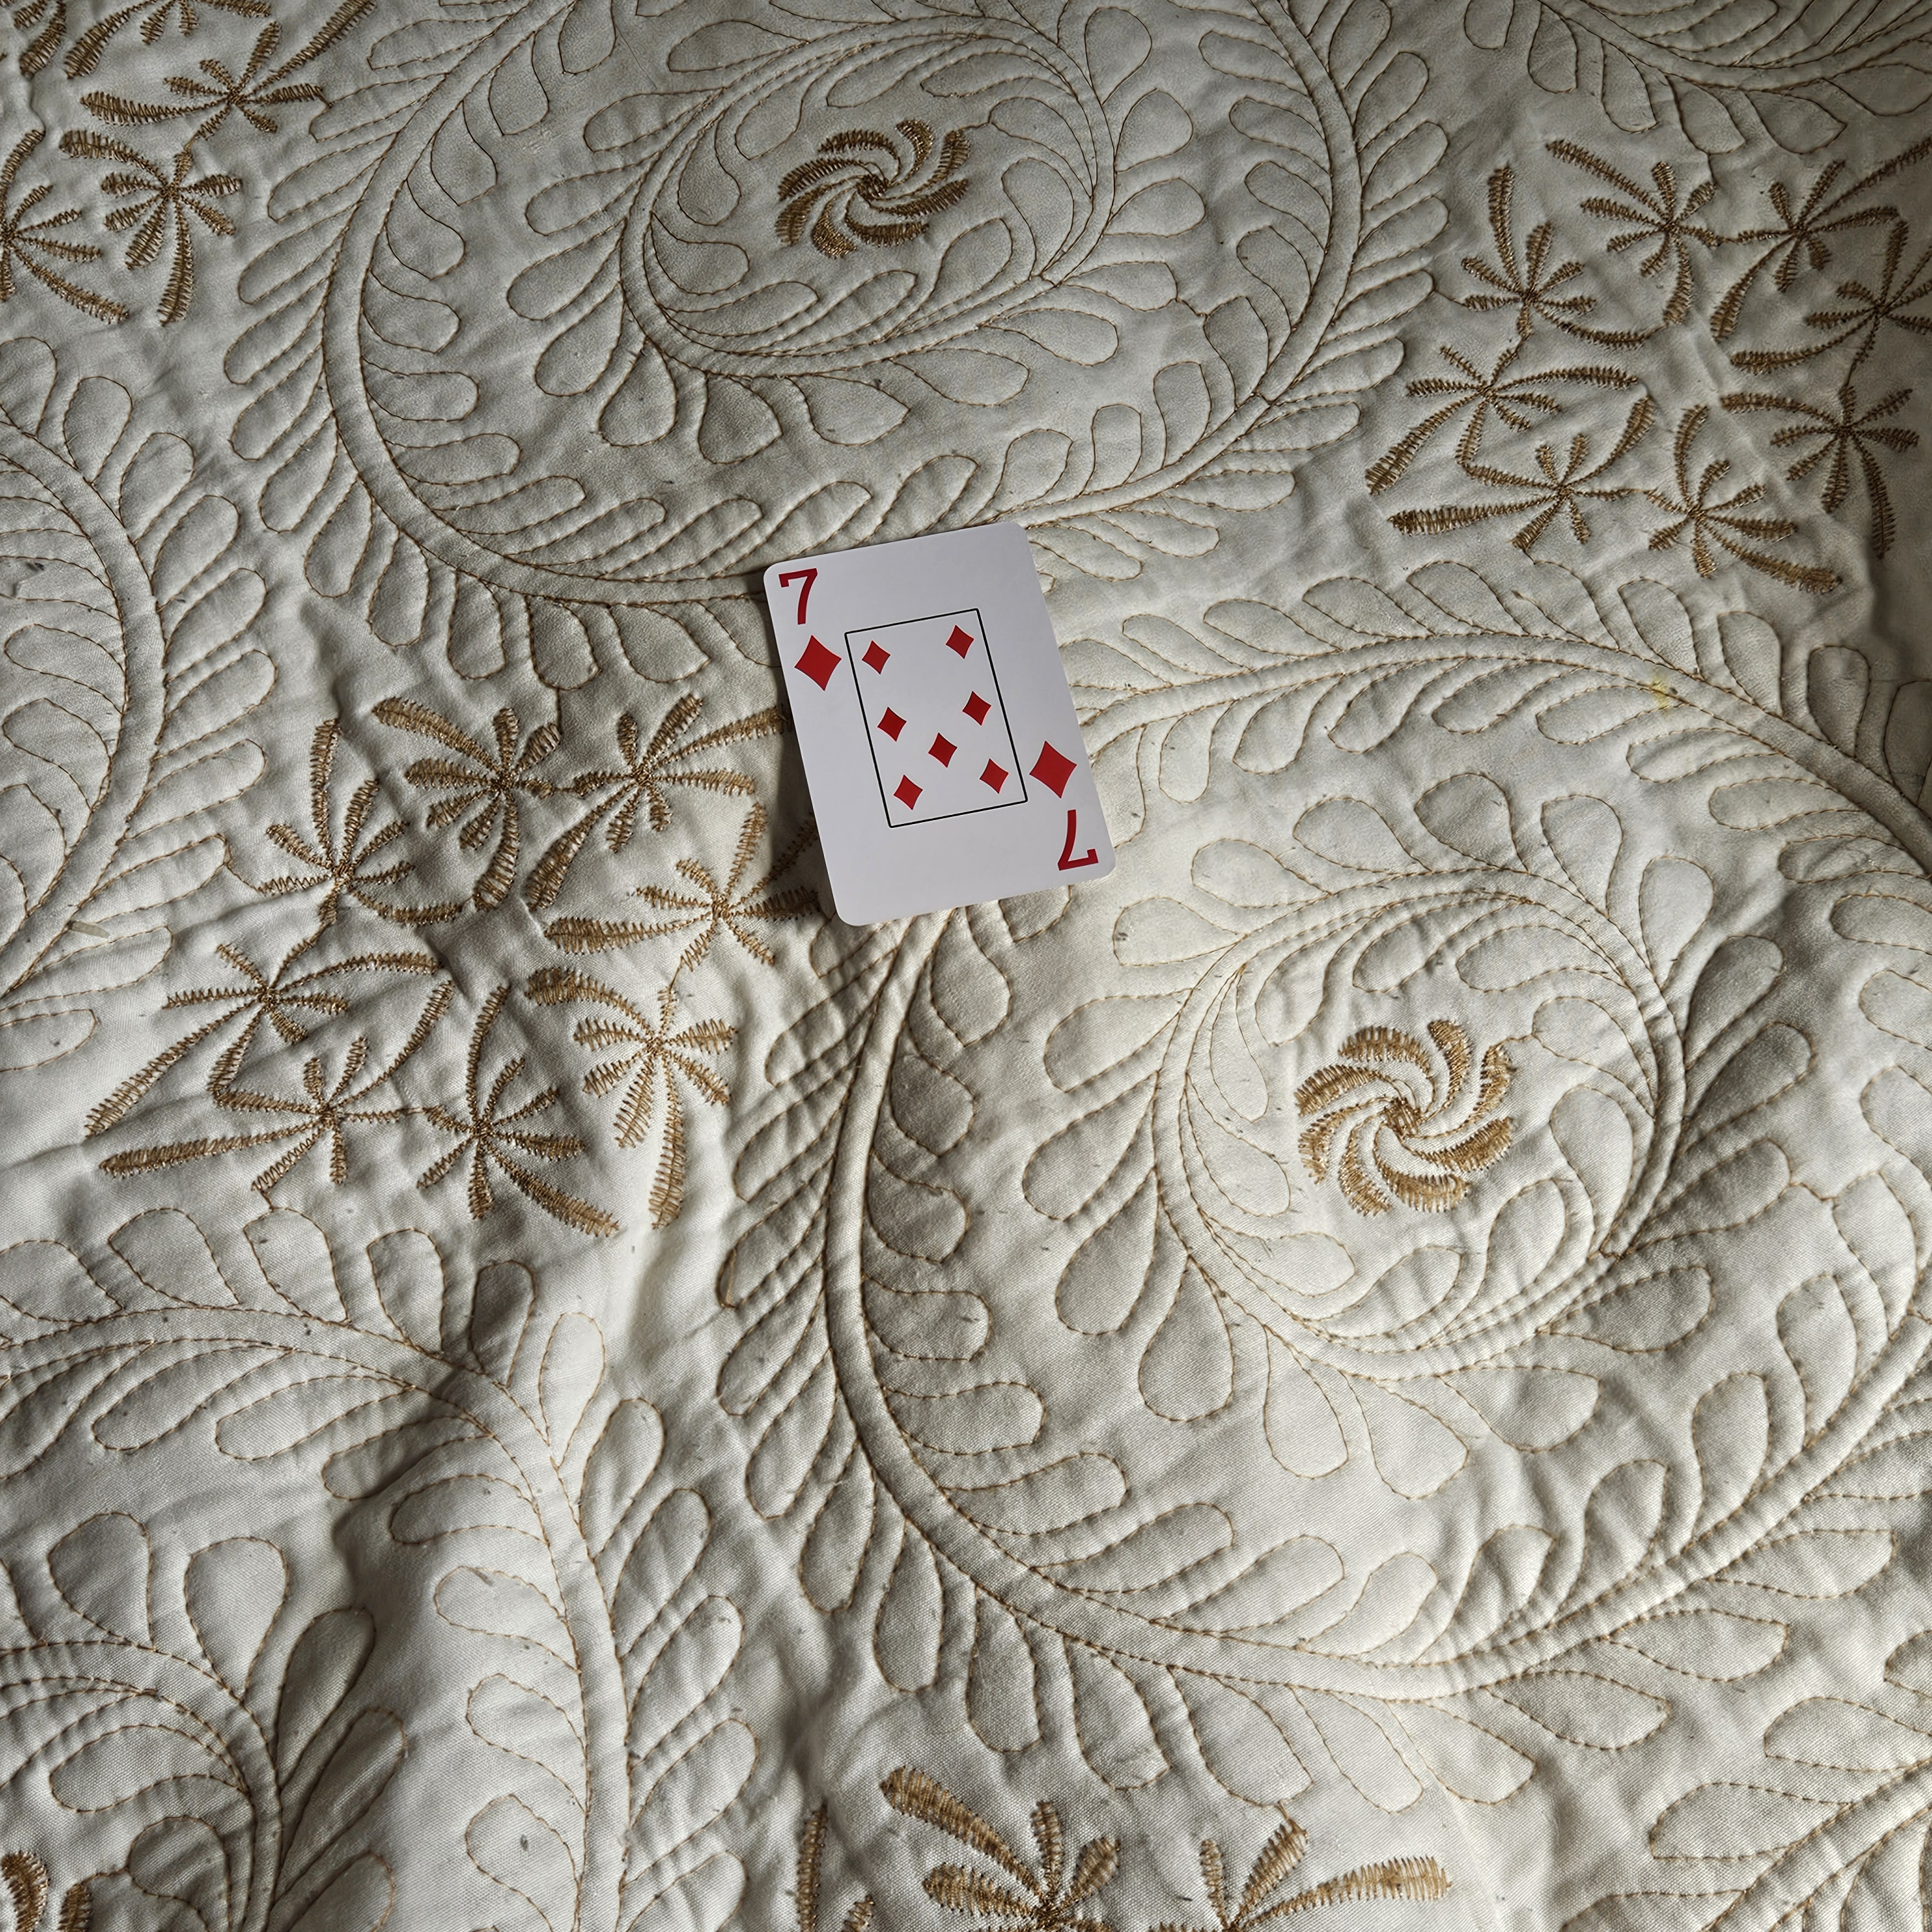7O: (766, 557, 855, 702), (1019, 731, 1104, 874)
